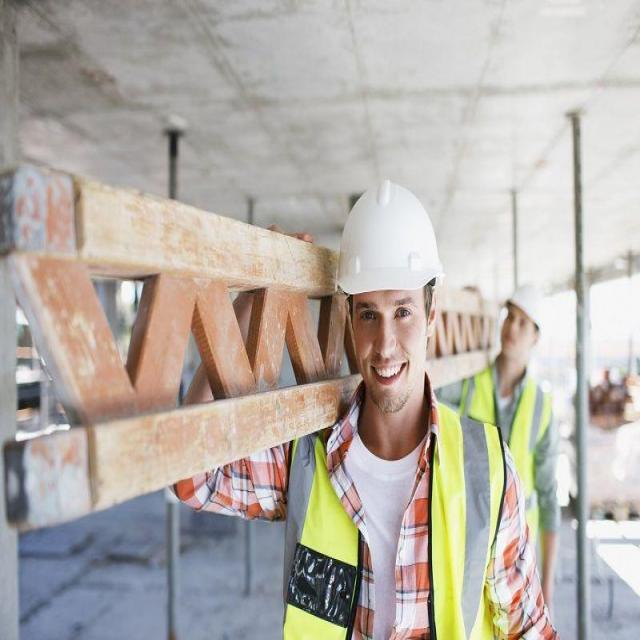Reflective-Jacket: (280, 406, 508, 640), (458, 367, 558, 548)
Safety-Helmet: (332, 173, 446, 303), (498, 276, 554, 338)
